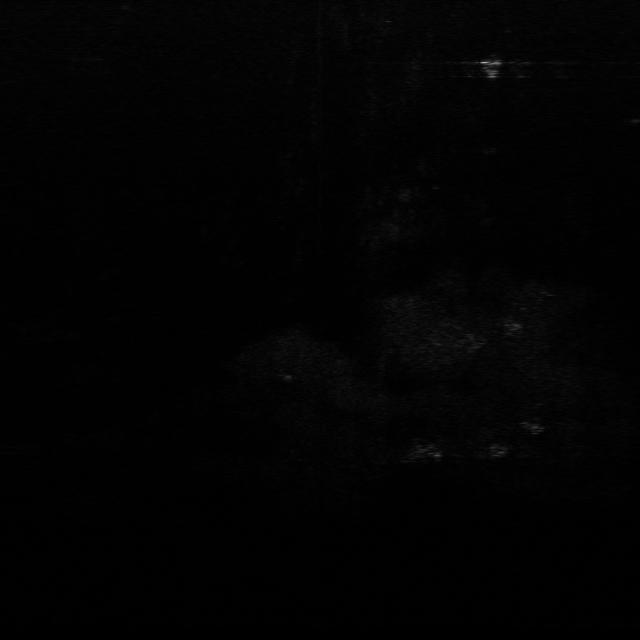rov: (476, 57, 508, 83)
